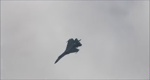maybay_muctieu: (54, 36, 81, 66)
